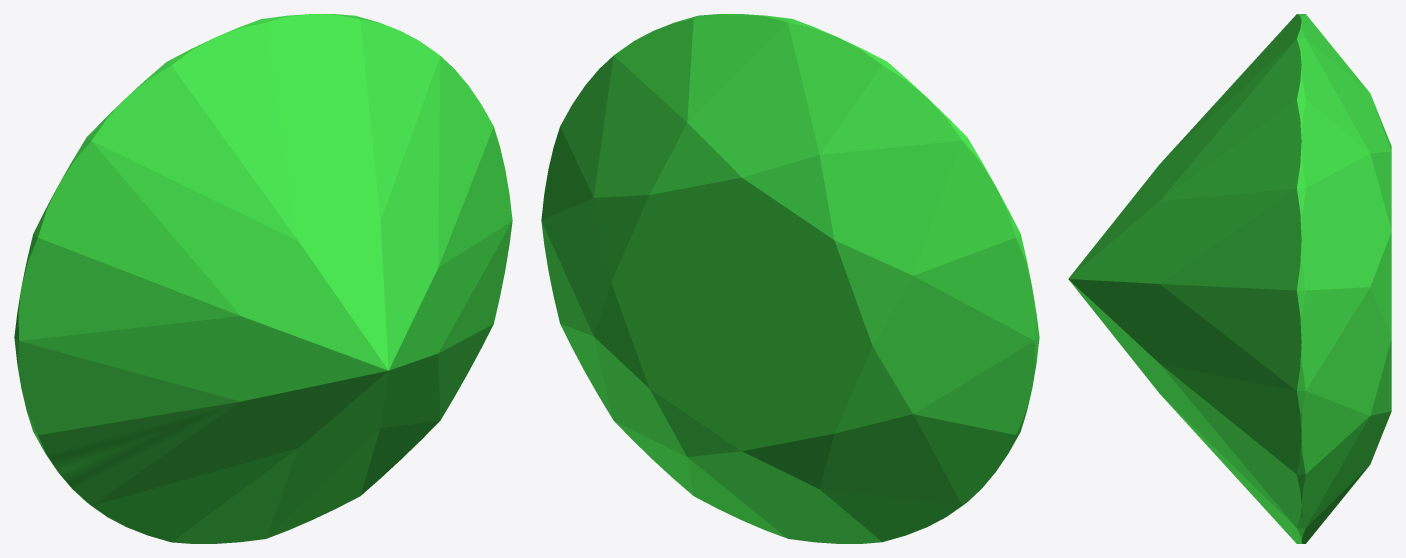
File: diamond01-scene.dae
3 renders of one model, left to right at view 1: azimuth 30°, elevation 25°; view 2: azimuth 150°, elevation 25°; view 3: azimuth 270°, elevation 25°, orthographic. The views are drawn at different scales.
Visible parts, largest first — view 1: model:diamond01; view 2: model:diamond01; view 3: model:diamond01.
Part boxes in pixels (x1,y1,x2,y2): model:diamond01: [14, 14, 512, 543]; model:diamond01: [541, 14, 1039, 543]; model:diamond01: [1068, 14, 1391, 543].
Bounding box in the file's own units: 1 × 0.61 × 1.
